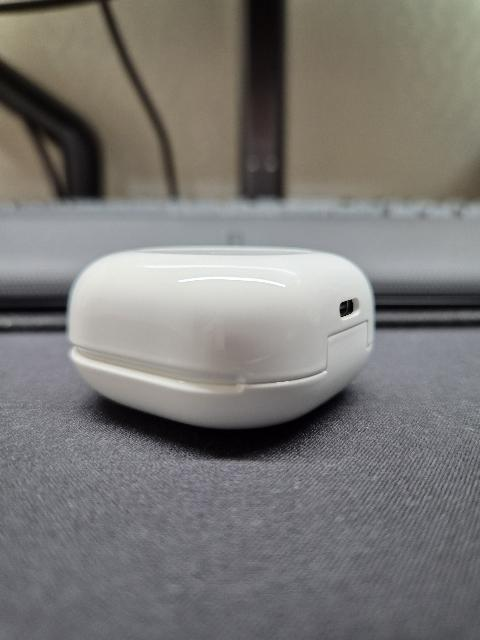earphone_case: (68, 246, 375, 430)
